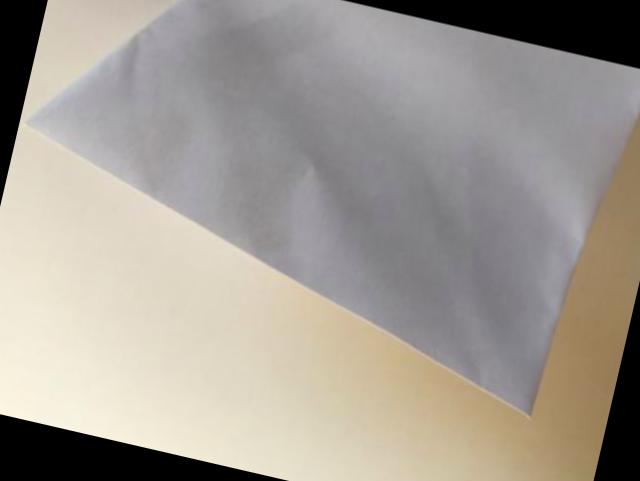cardboard paper: (28, 0, 640, 409)
